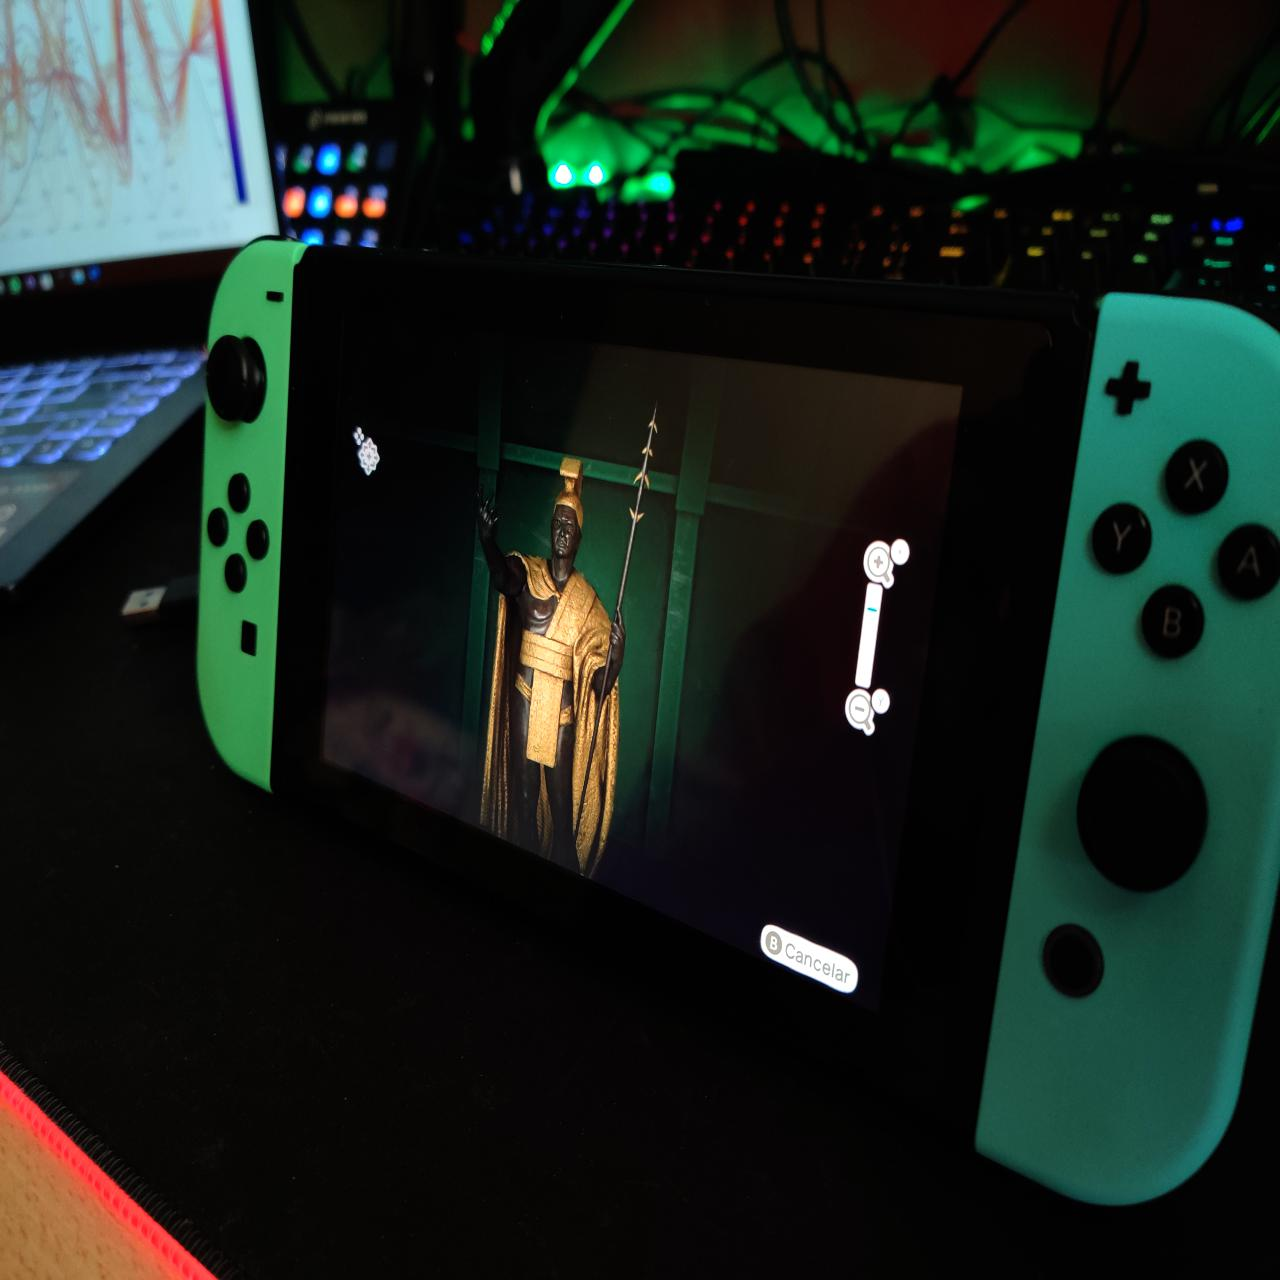Kamehameha: (464, 392, 672, 903)
